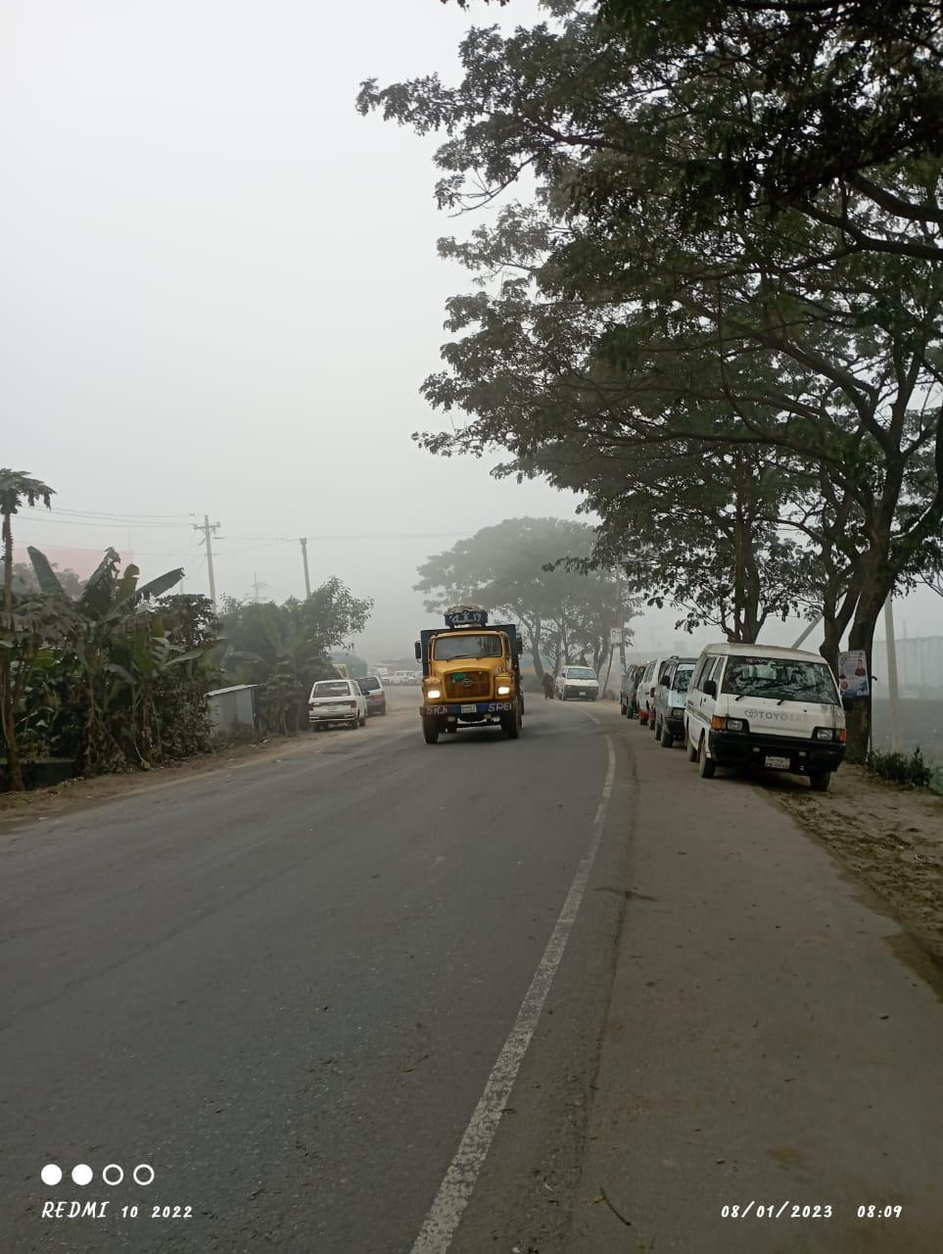Car: (690, 639, 855, 796), (292, 673, 377, 730), (545, 651, 607, 708)
Truck: (407, 603, 534, 742)
